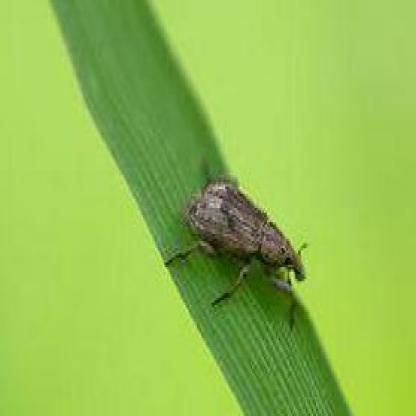rice-bug: (177, 178, 306, 306)
